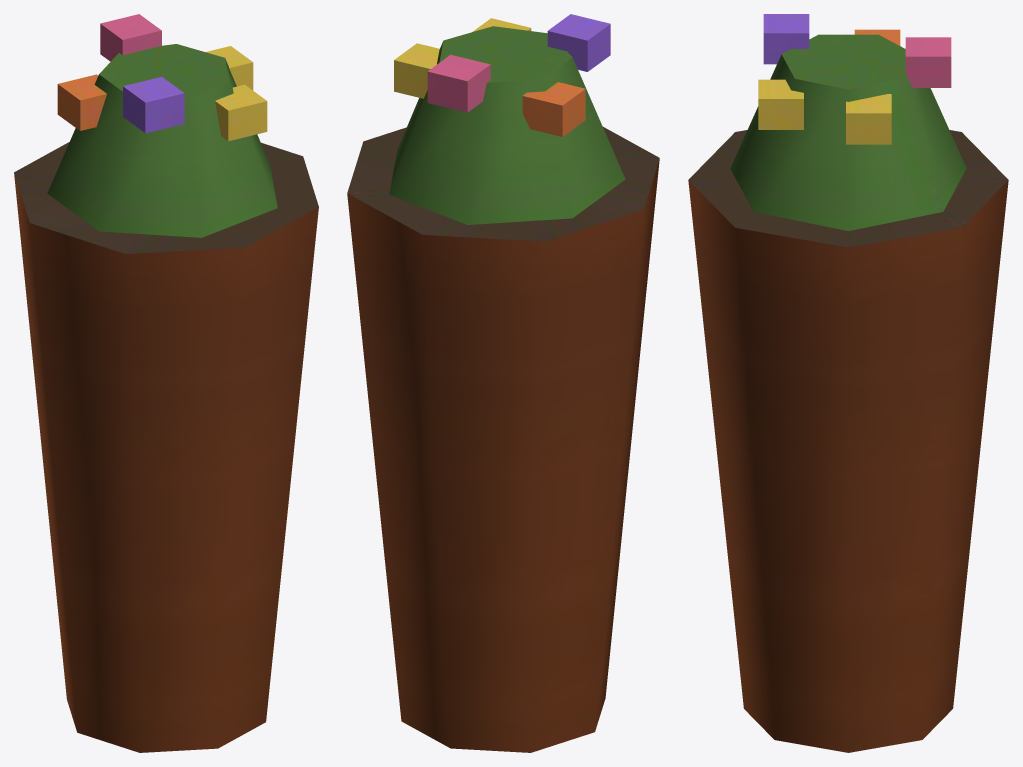
Rendered from planter.glb.
3 views of the same model, side by side, from view 1: azimuth 30°, elevation 25°; view 2: azimuth 150°, elevation 25°; view 3: azimuth 270°, elevation 25° (orthographic). The views are drawn at different scales.
Parts seen in each view (by area): view 1: props_0_0; view 2: props_0_0; view 3: props_0_0.
Boxes of the visible parts, left/top/right/bottom form: props_0_0: left=14, top=14, right=318, bottom=752; props_0_0: left=347, top=14, right=659, bottom=752; props_0_0: left=688, top=14, right=1008, bottom=752.
Size of the model in its own units: 0.56 by 1.28 by 0.56.
Materials: 1 (1 with a texture image).
